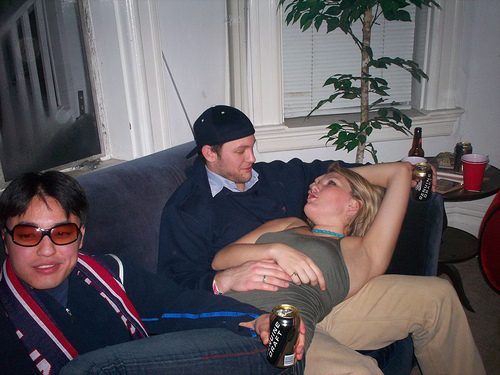without_mask: (3, 193, 87, 287), (303, 168, 365, 228), (197, 130, 258, 188)
